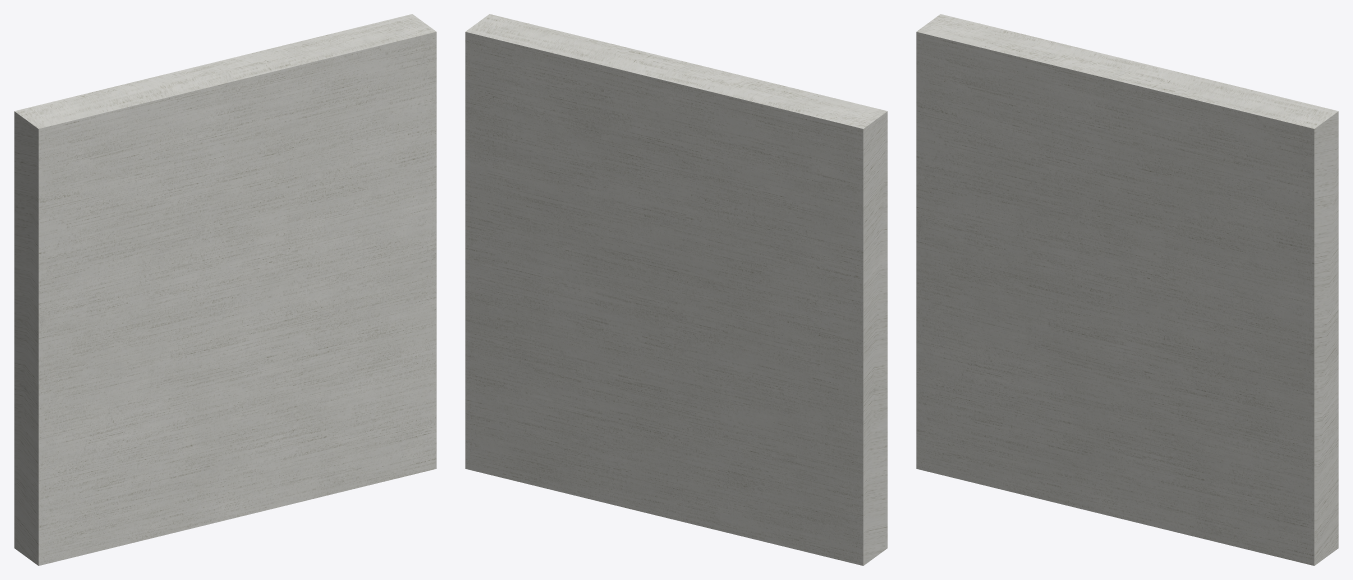
The model's file is Wall1.fbx.
3 renders of one model, left to right at view 1: azimuth 30°, elevation 25°; view 2: azimuth 150°, elevation 25°; view 3: azimuth 330°, elevation 25°, orthographic.
Visible parts, largest first — view 1: Wall1; view 2: Wall1; view 3: Wall1.
Boxes of the visible parts, left/top/right/bottom form: Wall1: left=14, top=14, right=436, bottom=565; Wall1: left=465, top=14, right=887, bottom=565; Wall1: left=916, top=14, right=1338, bottom=565.
Bounding box in the file's own units: 239 × 251 × 25.36.
